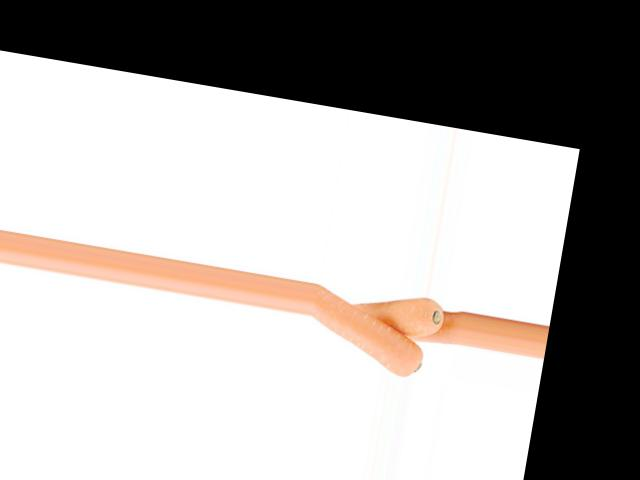carrot: (344, 287, 451, 341)
